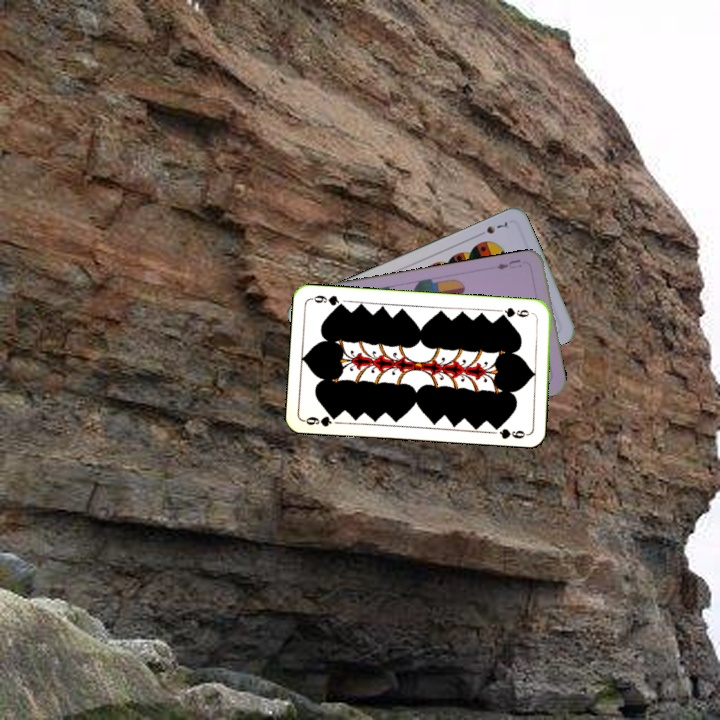EU: (492, 255, 524, 272)
G9: (300, 410, 341, 429), (496, 304, 532, 320)
S7: (473, 218, 510, 239)
